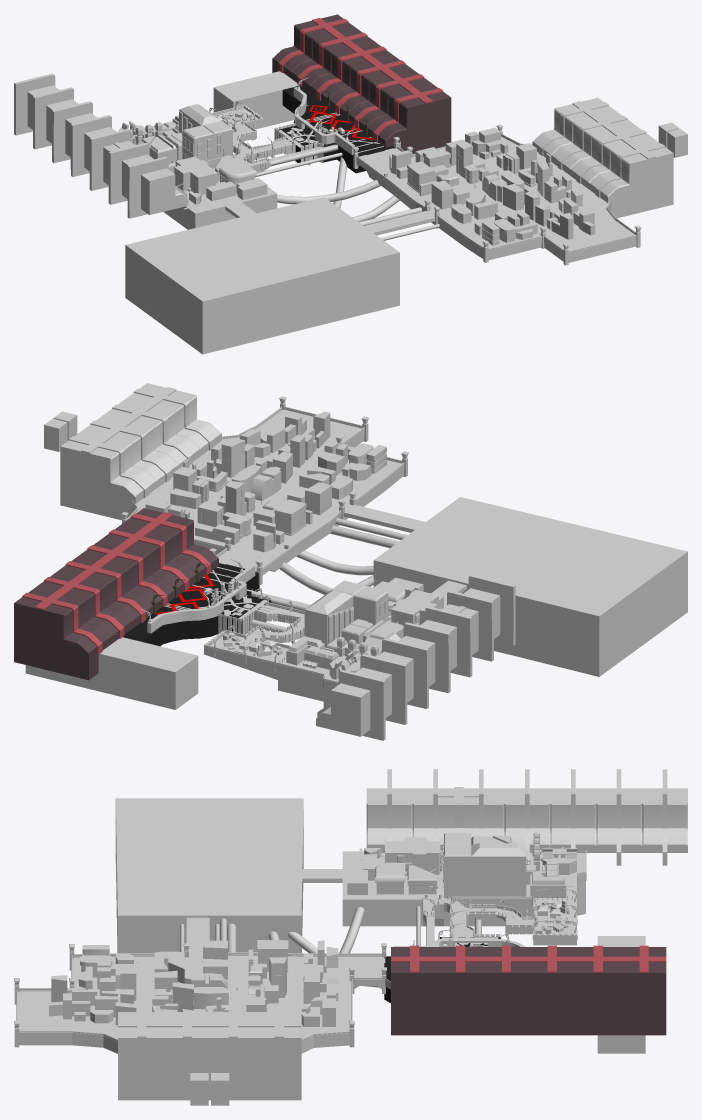
File: Region1and2.fbx
The picture shows the model from 3 angles, top to bottom: view 1: azimuth 30°, elevation 25°; view 2: azimuth 150°, elevation 25°; view 3: azimuth 270°, elevation 25°; orthographic projection. The views are drawn at different scales.
Visible parts, largest first — view 1: Cube.262, Cube.034, Cube.003, Cube.314, Cube.004, Plane.008, Cube.237, Plane.011, Cube.315, Plane, Plane.002, Cube.005 (+11 smaller); view 2: Cube.262, Cube.034, Cube.003, Cube.314, Plane.011, Cube.004, Plane, Plane.008, Cube.315, Cube.237, Cube.006, Cube.002 (+21 smaller); view 3: Cube.262, Cube.003, Cube.034, Cube.314, Cube.237, Plane.008, Plane.002, Cube.004, Cube.006, Cube.315, Cube.005, Cube.040 (+19 smaller).
Boxes of the visible parts, box(x1,y1,x2,y2) form: Cube.262: box(125, 197, 399, 354); Cube.034: box(14, 73, 188, 218); Cube.003: box(272, 14, 451, 153); Cube.314: box(532, 97, 673, 218); Cube.004: box(278, 18, 443, 141); Plane.008: box(369, 137, 636, 262); Cube.237: box(359, 136, 619, 248); Plane.011: box(213, 71, 297, 129); Cube.315: box(538, 101, 665, 197); Plane: box(274, 86, 394, 173); Plane.002: box(163, 160, 277, 229); Cube.005: box(182, 120, 232, 168); Cube.262: box(373, 497, 687, 676); Cube.034: box(316, 574, 515, 740); Cube.003: box(14, 508, 218, 680); Cube.314: box(60, 383, 221, 520); Plane.011: box(25, 637, 198, 709); Cube.004: box(22, 512, 210, 654); Plane: box(123, 563, 271, 646); Plane.008: box(132, 409, 403, 571); Cube.315: box(68, 387, 214, 497); Cube.237: box(156, 417, 401, 571); Cube.006: box(304, 590, 353, 647); Cube.002: box(147, 565, 255, 633); Cube.262: box(115, 798, 303, 953); Cube.003: box(391, 947, 666, 1035); Cube.034: box(366, 769, 687, 865); Cube.314: box(118, 1012, 301, 1100); Cube.237: box(24, 953, 385, 1033); Plane.008: box(17, 955, 351, 1053); Plane.002: box(342, 851, 576, 926); Cube.004: box(391, 945, 666, 972); Cube.006: box(471, 843, 526, 896); Cube.315: box(118, 1010, 301, 1037); Cube.005: box(444, 832, 471, 898); Cube.040: box(385, 837, 440, 874).
Size of the model in its own units: 31493 by 5595 by 29369.
